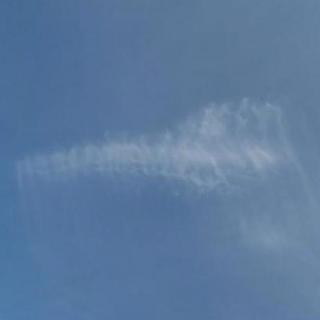Cirrus: (6, 98, 320, 213)
